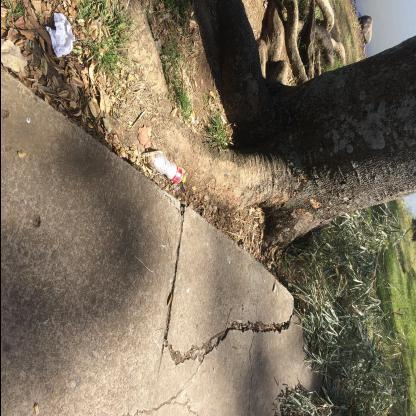kagit: (46, 14, 76, 59)
plastik: (150, 152, 187, 185)
